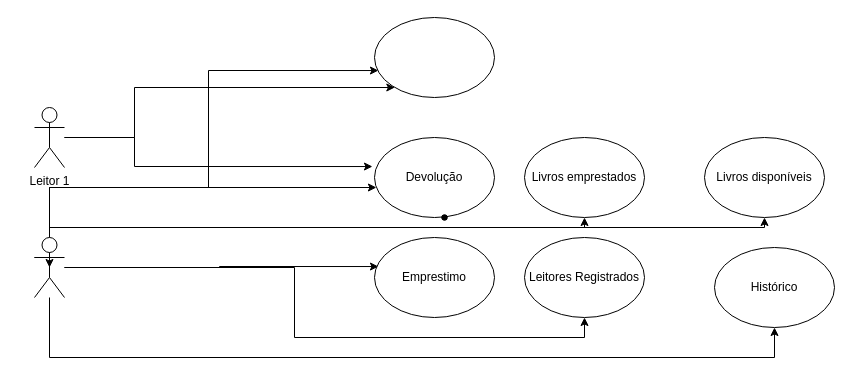
This 852x383 diagram has some shape labels left out. Each missing label, with the centre of its shape:
"Bibliotecário" goes at (x=49, y=267).
"Registro" goes at (x=434, y=57).
